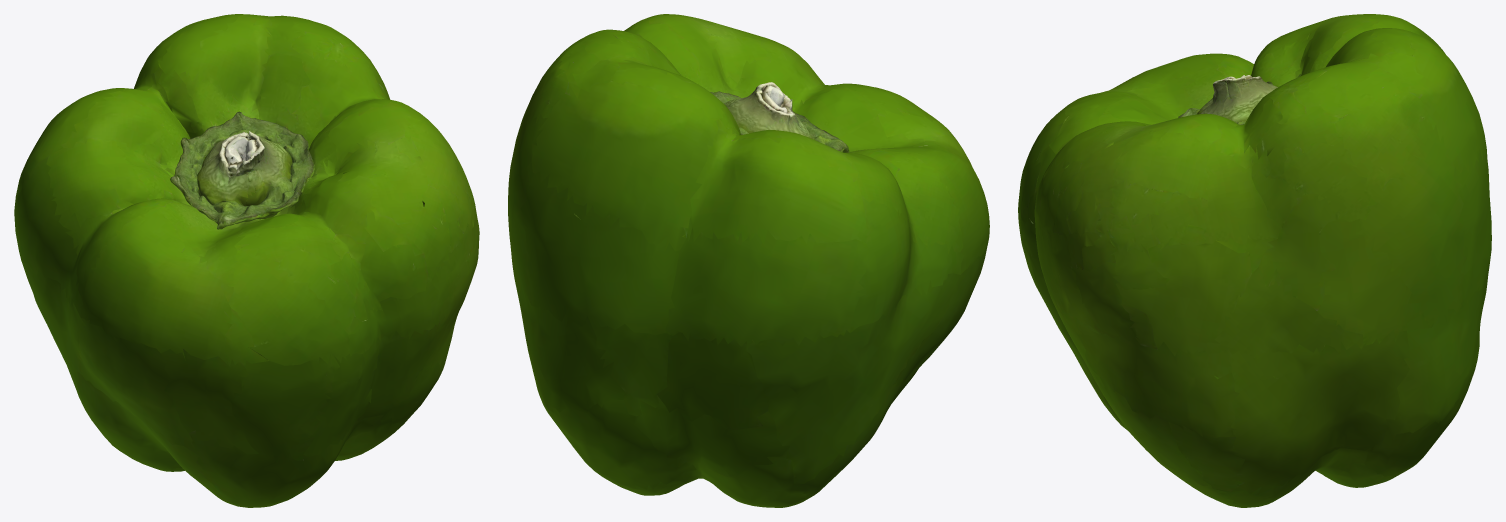
Rendered from kitchen-bell-pepper-02.glb.
3 renders of one model, left to right at view 1: azimuth 30°, elevation 25°; view 2: azimuth 150°, elevation 25°; view 3: azimuth 270°, elevation 25°, orthographic. The views are drawn at different scales.
Parts seen in each view (by area): view 1: mesh_node; view 2: mesh_node; view 3: mesh_node.
Part boxes in pixels (x1,y1,x2,y2): mesh_node: (14, 14, 479, 507); mesh_node: (508, 14, 989, 507); mesh_node: (1018, 14, 1491, 507).
Size of the model in its own units: 1.78 by 1.9 by 1.83.
1 material, 1 textured.
